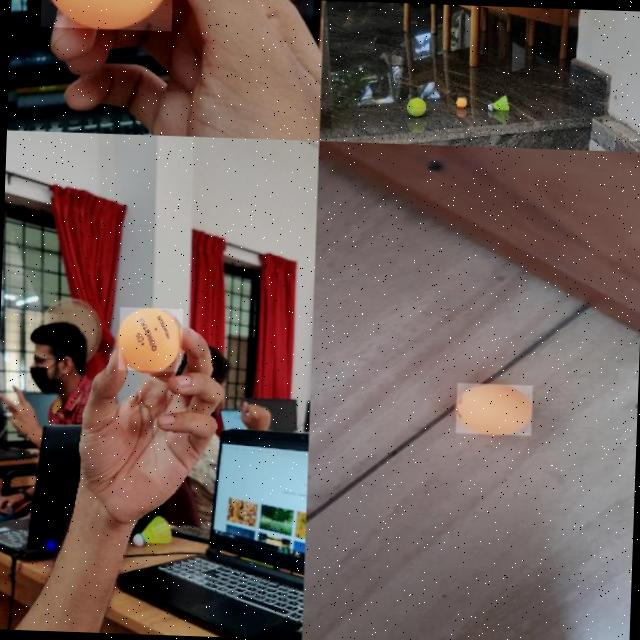ping-pong-ball: (38, 0, 174, 33), (116, 306, 182, 372), (453, 382, 532, 436), (456, 97, 466, 107)
